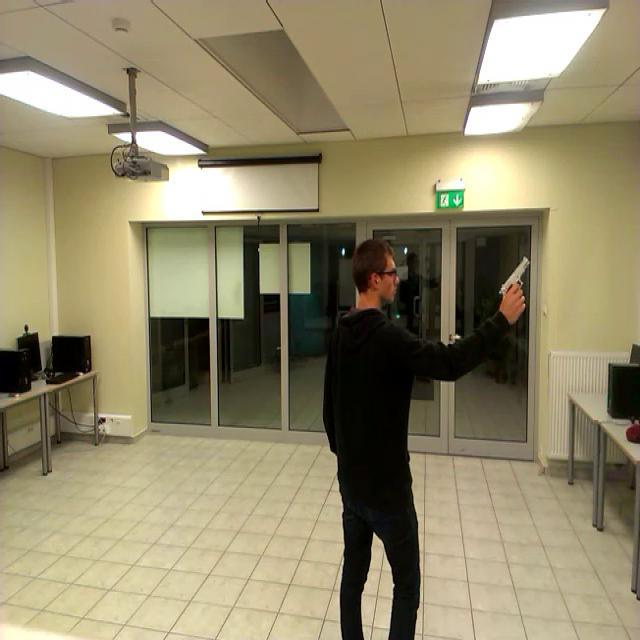Gun: (498, 255, 528, 308)
